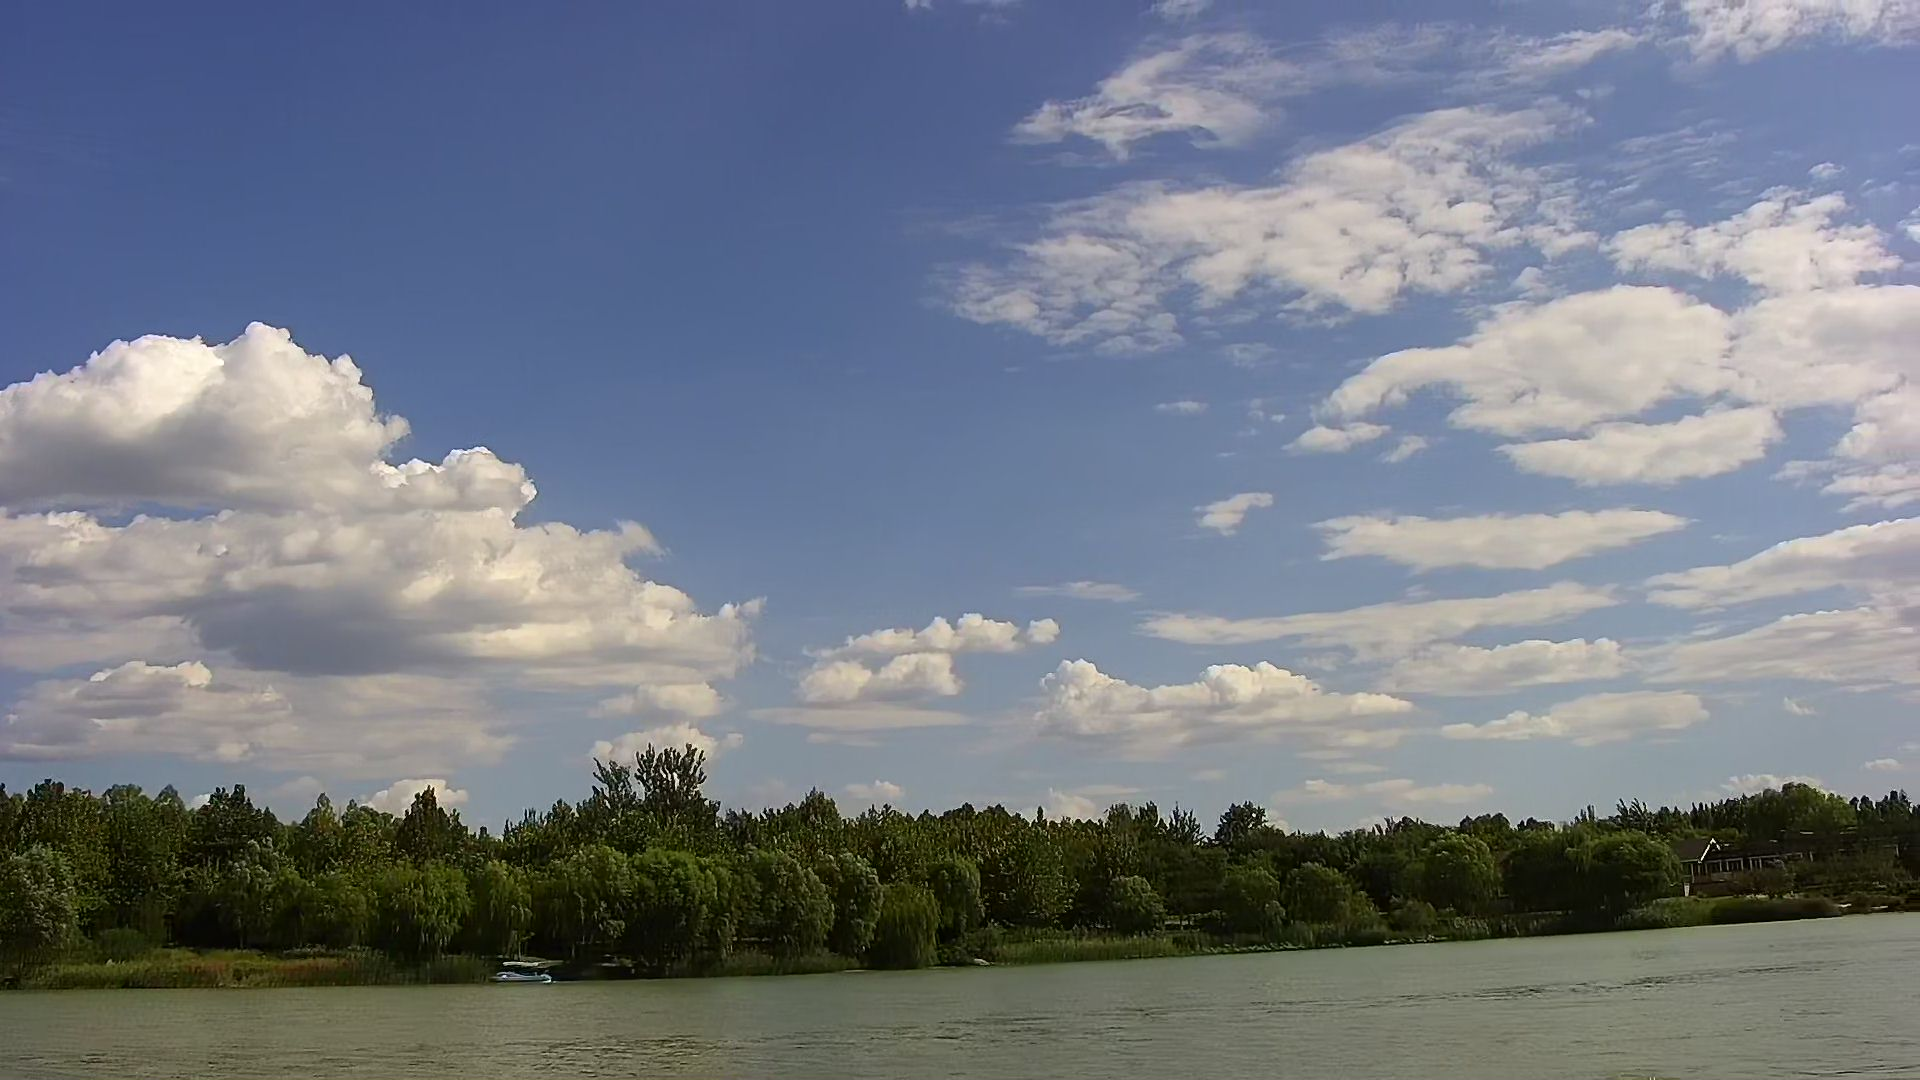boat: (489, 957, 551, 986)
